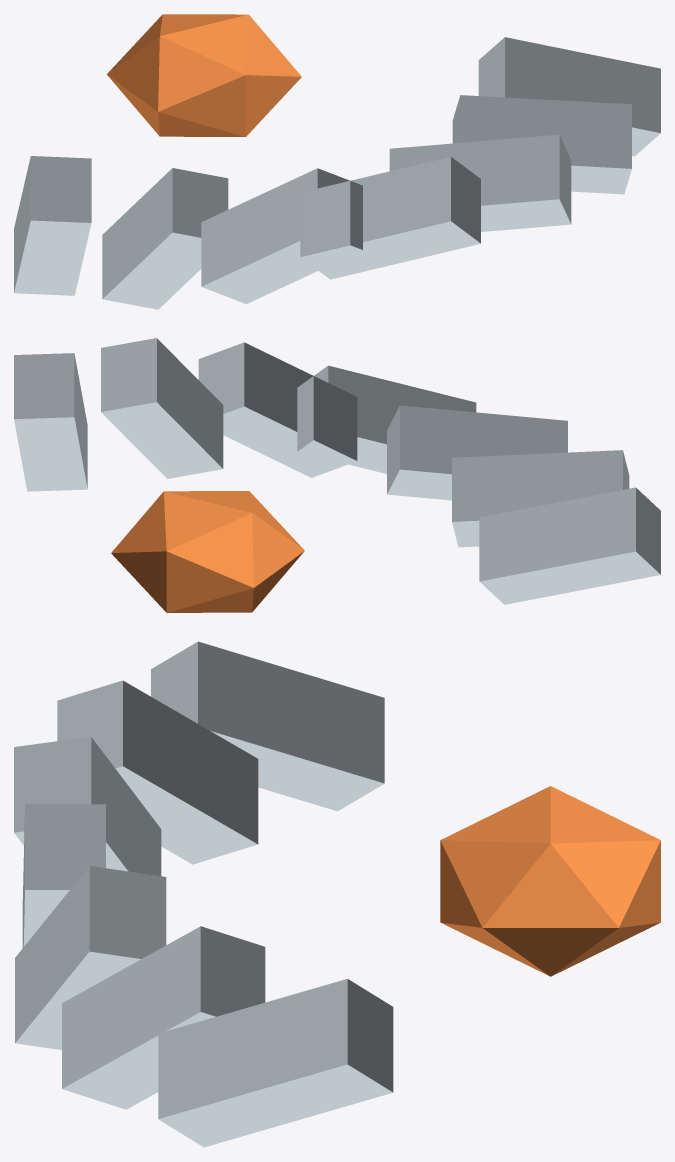
File: projectile_knight_blade_arc.glb
The picture shows the model from 3 angles, top to bottom: view 1: azimuth 30°, elevation 25°; view 2: azimuth 150°, elevation 25°; view 3: azimuth 270°, elevation 25°; orthographic projection. The views are drawn at different scales.
Visible parts, largest first — view 1: ember_core, arc_3, arc_1, arc_2, arc_5, arc_6, arc_4, arc_0; view 2: ember_core, arc_0, arc_4, arc_5, arc_2, arc_1, arc_6, arc_3; view 3: ember_core, arc_6, arc_0, arc_5, arc_1, arc_4, arc_2, arc_3.
Part boxes in pixels (left/top/right/bottom): ember_core: left=107, top=14, right=301, bottom=136; arc_3: left=300, top=157, right=480, bottom=279; arc_1: left=102, top=168, right=228, bottom=309; arc_2: left=201, top=168, right=362, bottom=303; arc_5: left=452, top=95, right=631, bottom=194; arc_6: left=478, top=37, right=660, bottom=156; arc_4: left=389, top=134, right=571, bottom=231; arc_0: left=14, top=156, right=91, bottom=295; ember_core: left=111, top=491, right=304, bottom=612; arc_0: left=479, top=487, right=660, bottom=604; arc_4: left=198, top=342, right=357, bottom=477; arc_5: left=101, top=338, right=223, bottom=478; arc_2: left=387, top=405, right=567, bottom=500; arc_1: left=452, top=450, right=629, bottom=547; arc_6: left=14, top=353, right=87, bottom=491; arc_3: left=297, top=365, right=476, bottom=473; ember_core: left=440, top=786, right=660, bottom=976; arc_6: left=158, top=979, right=393, bottom=1147; arc_0: left=151, top=641, right=384, bottom=811; arc_5: left=62, top=926, right=265, bottom=1109; arc_1: left=57, top=680, right=258, bottom=864; arc_4: left=15, top=866, right=166, bottom=1049; arc_2: left=14, top=736, right=161, bottom=895; arc_3: left=22, top=804, right=105, bottom=986.
Size of the model in its own units: 1.47 by 0.2178 by 0.958.
